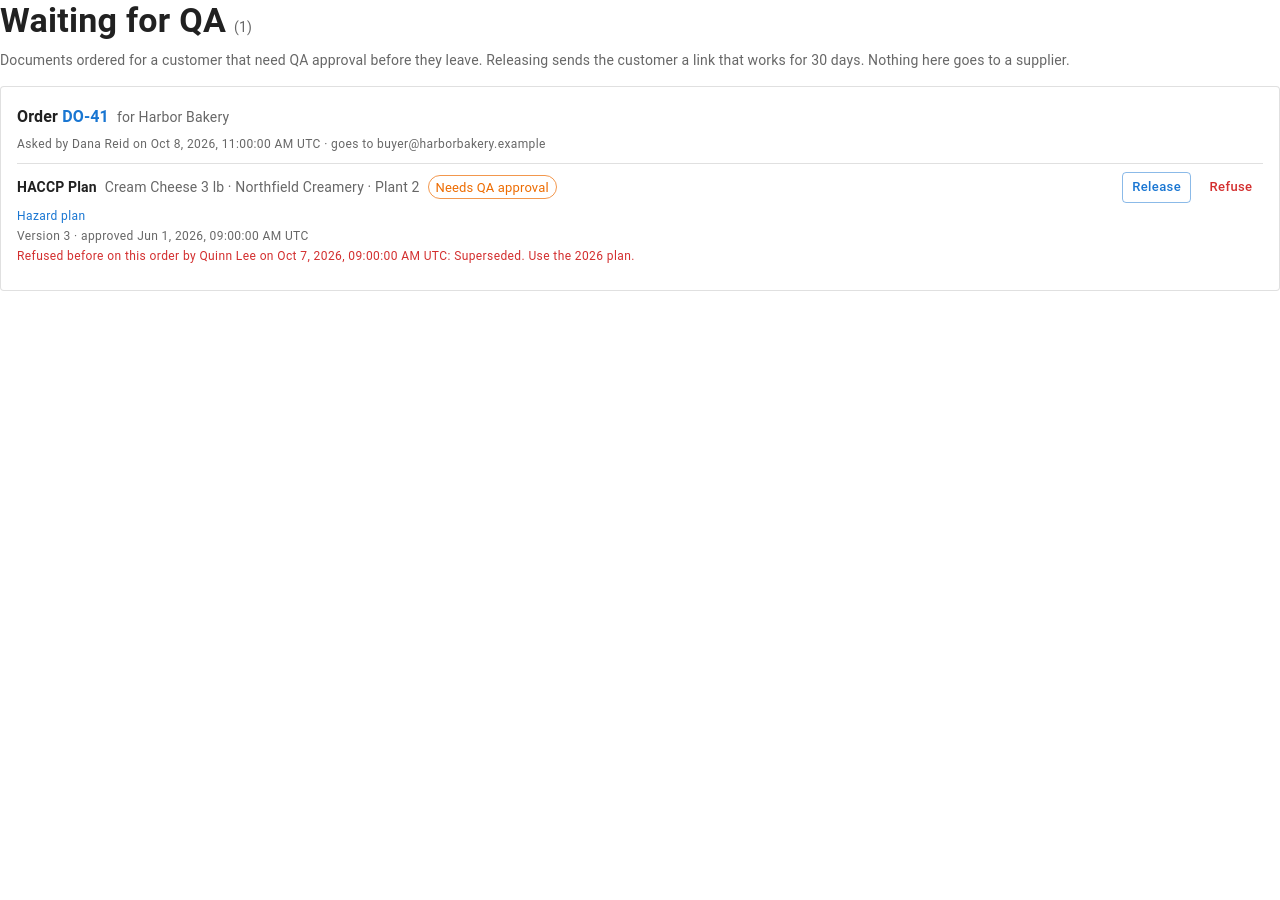
OrdersWaitingForQa › an earlier refusal of the same ask on the same order is shown on the list and in the release dialog
This screenshot has width=1280, height=900.
Expected: the text with test id "waiting-earlier-refusal" shows "Refused before on this order by Quinn Lee", [17, 249, 635, 263]
Expected: the text with test id "waiting-earlier-refusal" shows "Superseded. Use the 2026 plan.", [454, 249, 635, 263]
Click the button with test id "waiting-release" at (1157, 187), box [1122, 172, 1191, 203]
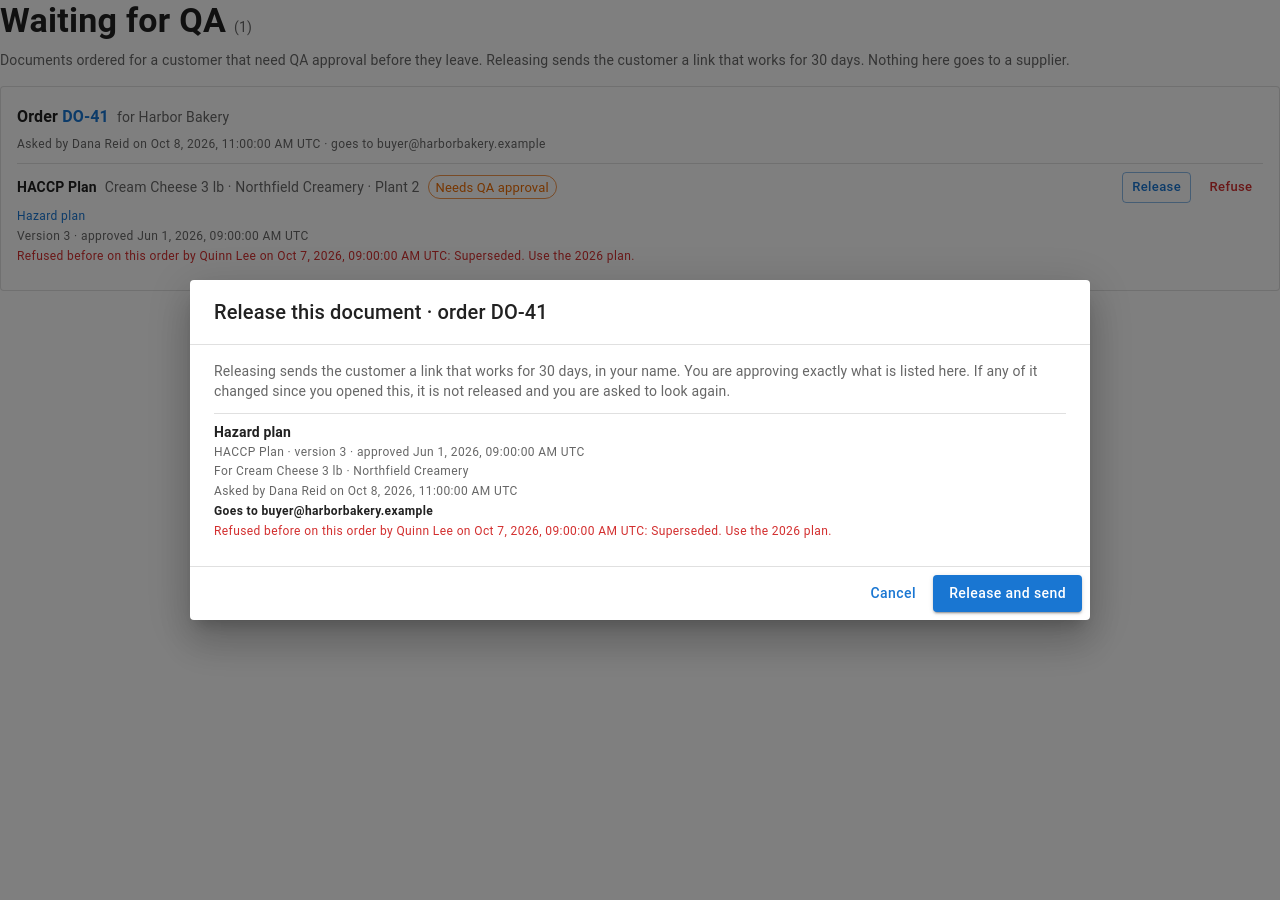
Now the text with test id "release-earlier-refusal" shows "Superseded. Use the 2026 plan.", box [651, 524, 832, 538]
